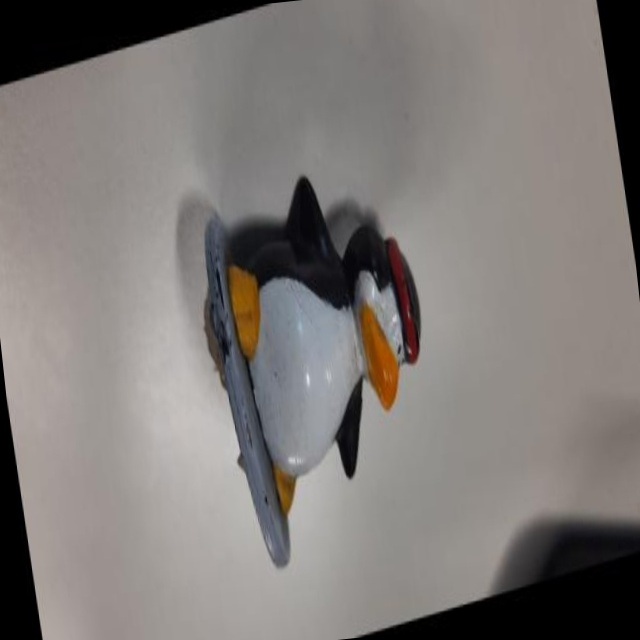Penguin: (173, 135, 467, 601)
